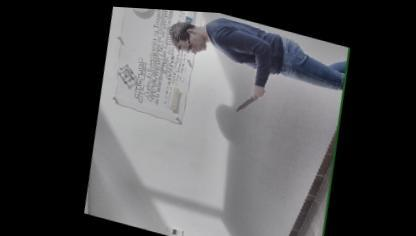knife: (230, 82, 262, 114)
